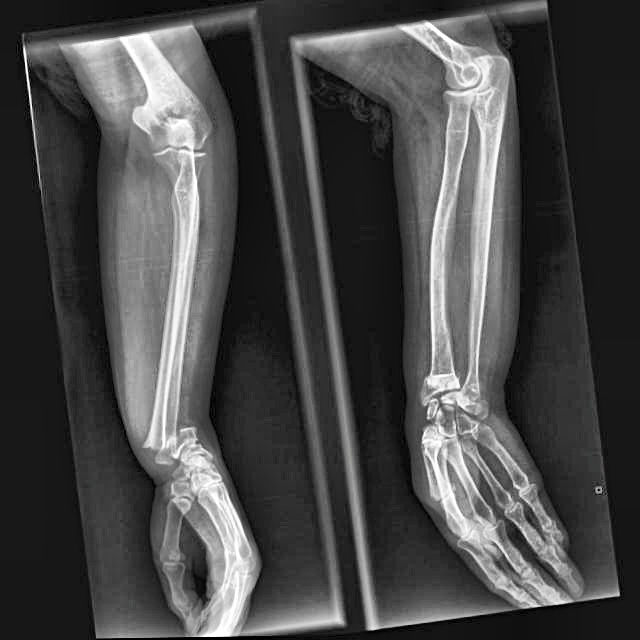Transverse: (126, 409, 222, 486)
